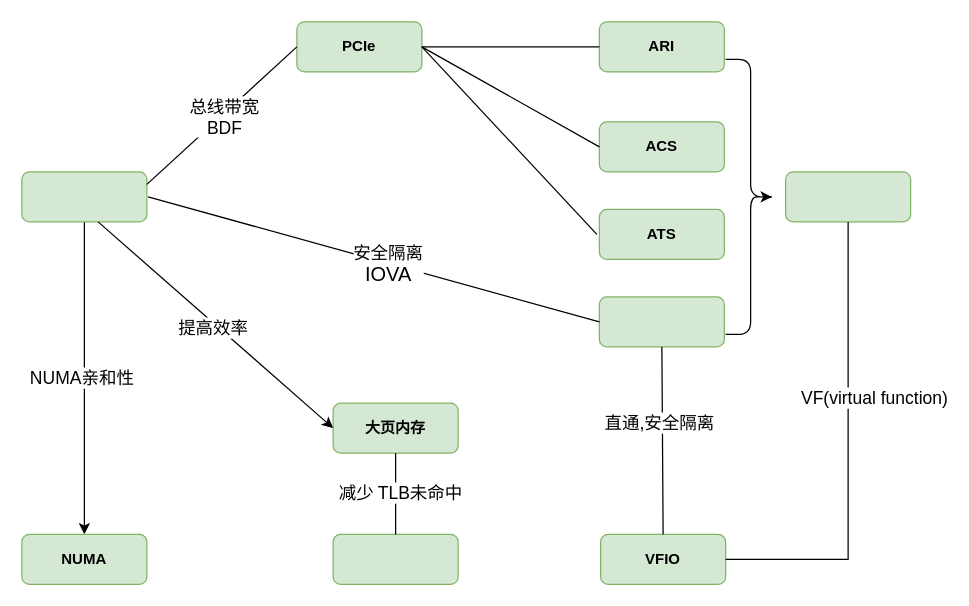
The diagram is 969 pixels wide and 606 high, and some of its shapes have lost their labels. The box of each missing label's shape, as (x1, y1, x2, y2) in pixels:
DMA: (21, 171, 147, 222)
IOMMU VT-d: (598, 296, 724, 347)
SR-IOV: (784, 171, 911, 222)
TLB: (332, 533, 458, 584)
